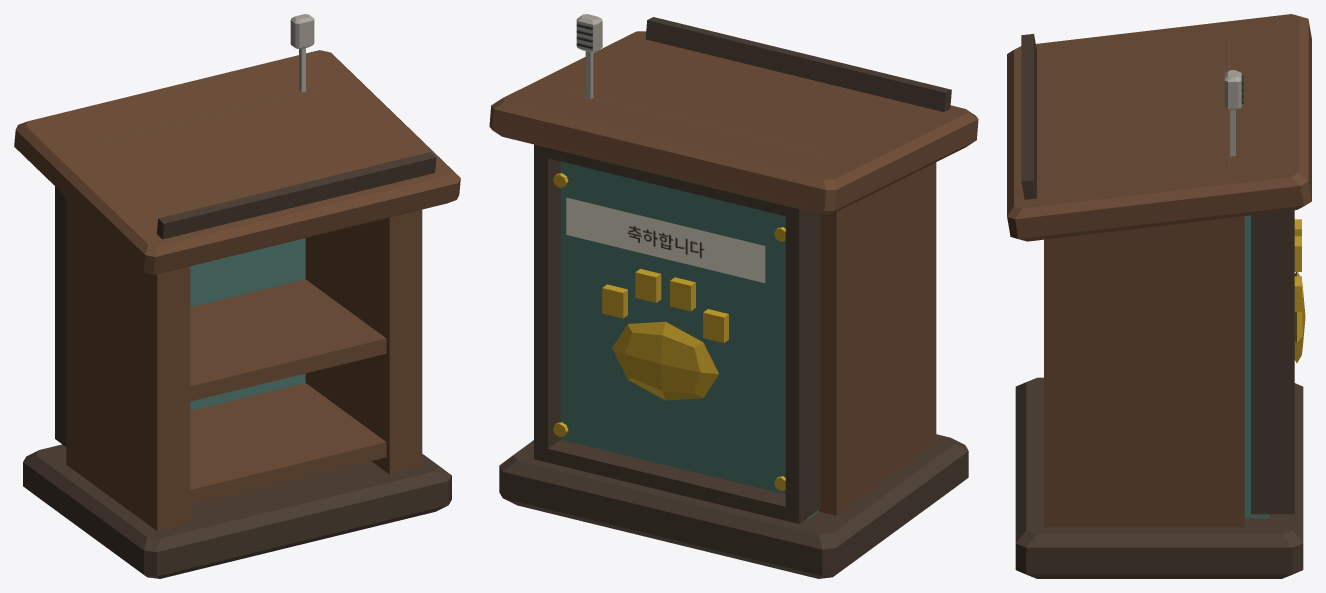
File: A02_Ceremonial_Lectern.fbx
The picture shows the model from 3 angles, left to right: view 1: azimuth 30°, elevation 25°; view 2: azimuth 150°, elevation 25°; view 3: azimuth 270°, elevation 25°; orthographic projection. The views are drawn at different scales.
Parts seen in each view (by area): view 1: Structure, Reading_Surface, Microphone; view 2: Structure, Reading_Surface, Front_Plaque, Microphone; view 3: Structure, Reading_Surface, Front_Plaque, Microphone.
Boxes of the visible parts, <box> form: Structure: <box>23,89,451,578</box>; Reading_Surface: <box>14,50,460,274</box>; Microphone: <box>290,14,314,92</box>; Structure: <box>499,92,968,578</box>; Reading_Surface: <box>489,17,978,214</box>; Front_Plaque: <box>566,197,765,400</box>; Microphone: <box>576,14,602,99</box>; Structure: <box>1015,40,1303,578</box>; Reading_Surface: <box>1007,14,1311,241</box>; Front_Plaque: <box>1294,219,1305,362</box>; Microphone: <box>1224,70,1243,156</box>.
Size of the model in its own units: 1.25 by 1.65 by 0.95.
7 materials, 1 textured.
